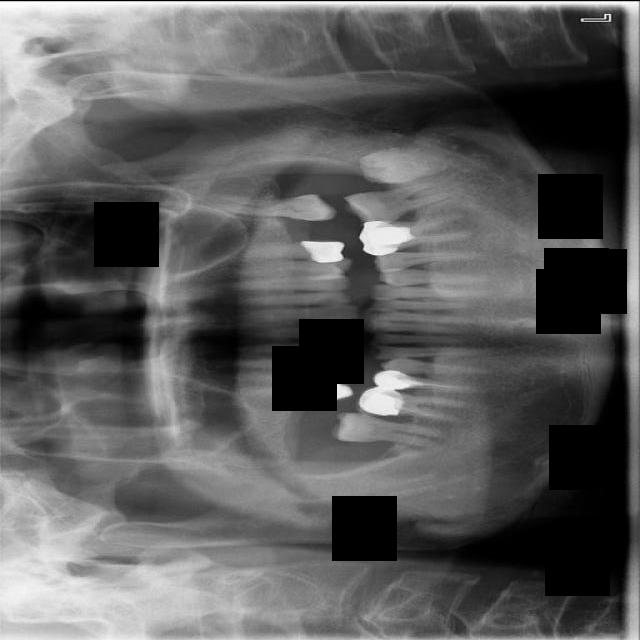52: (355, 216, 417, 262), (354, 383, 407, 419), (300, 240, 345, 263), (373, 367, 413, 390), (308, 381, 353, 400)
73: (396, 391, 468, 425), (404, 374, 474, 399), (585, 32, 595, 37)
BioHorizons Implant: (221, 193, 337, 220)
Biomet 3i Implant: (353, 137, 453, 190)
Blue Sky Bio Implant: (343, 176, 458, 231)
Implant: (330, 410, 440, 447)
